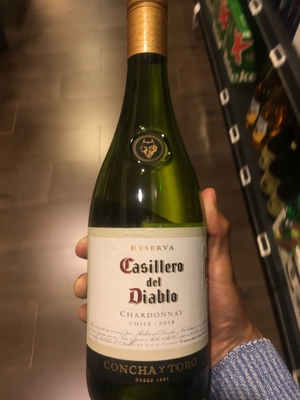casillero del diablo chardonnay: (83, 13, 221, 400)
